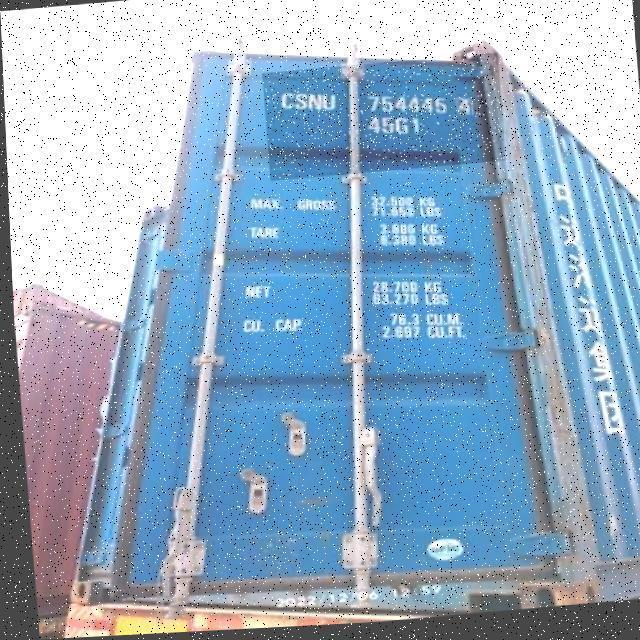container_number_h: (260, 58, 504, 184)
